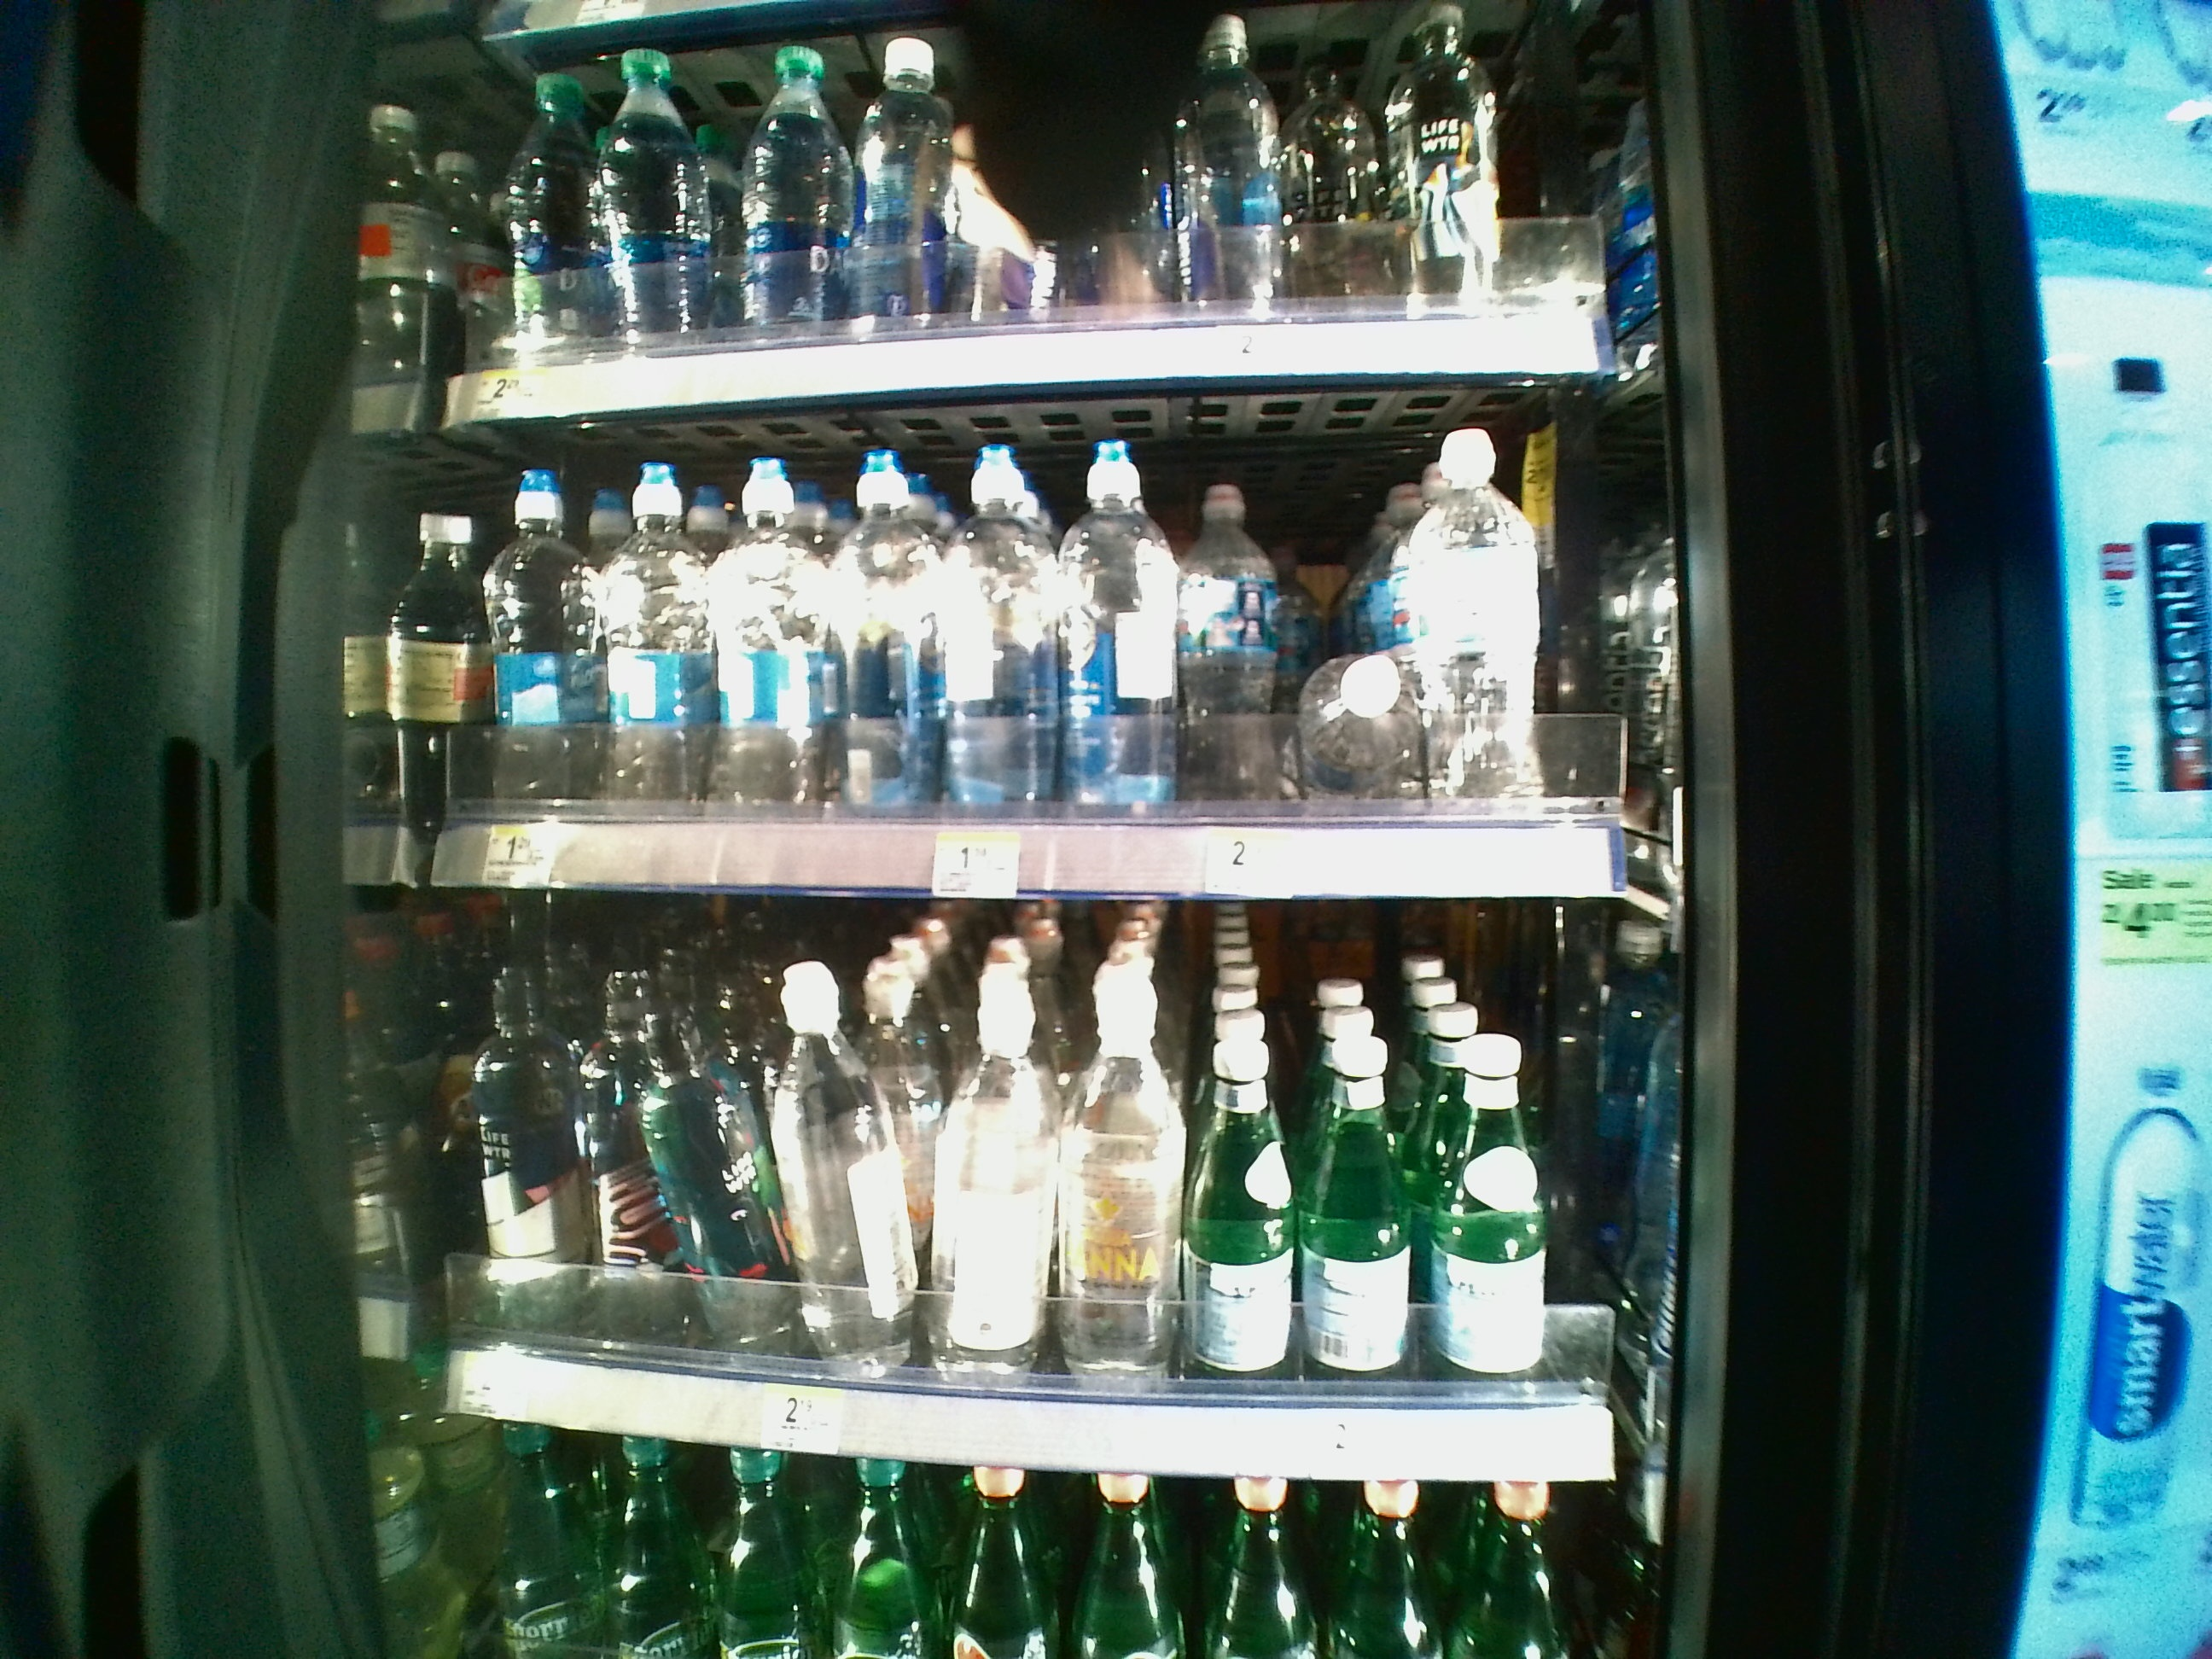shelf: (380, 903, 1635, 1486), (380, 422, 1623, 899)
